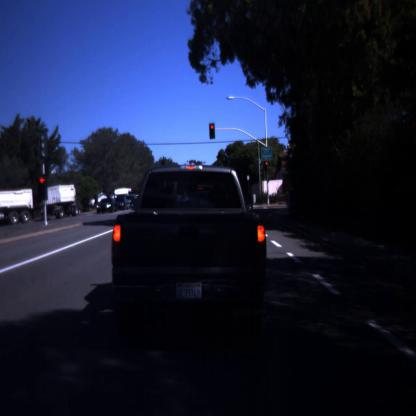trafficlight: (37, 172, 49, 204), (207, 125, 216, 142), (263, 160, 269, 178)
